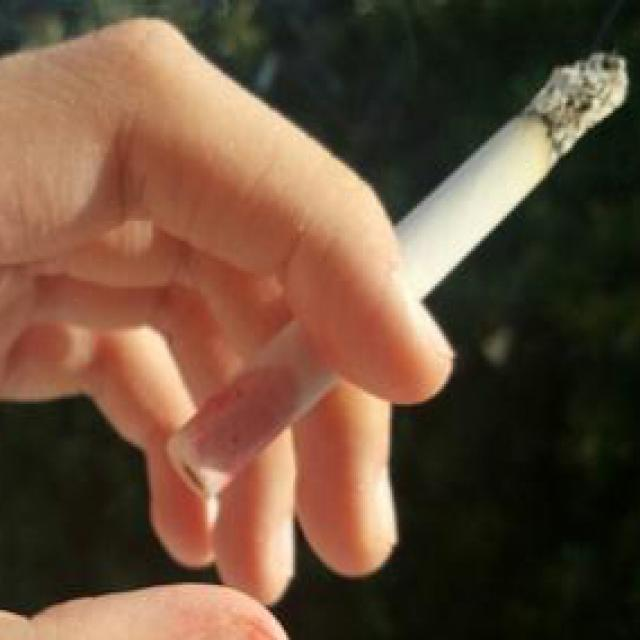smoking: (166, 51, 632, 498)
